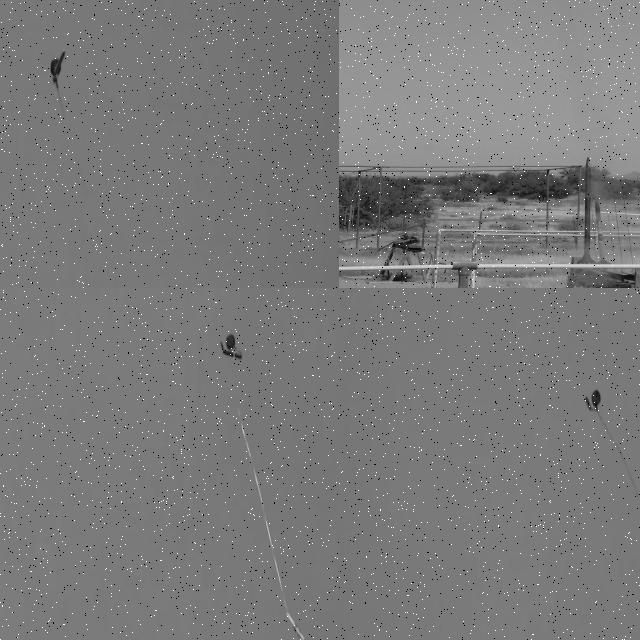Rocket: (577, 156, 594, 264), (595, 198, 611, 266), (284, 606, 316, 640)
